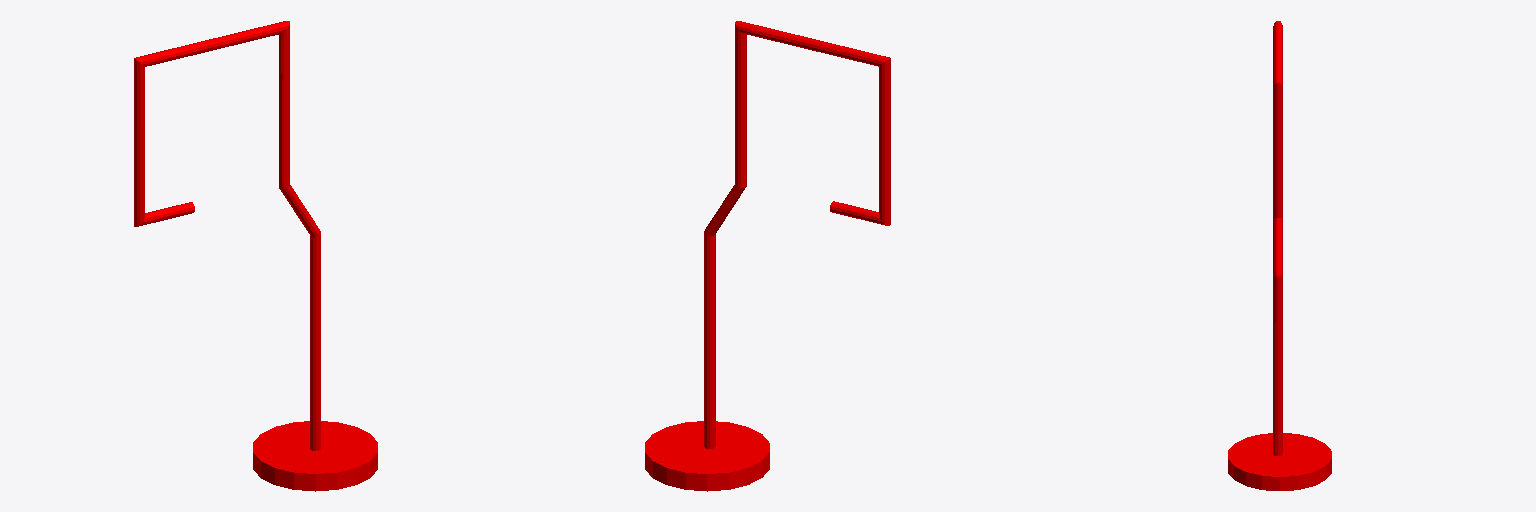
The robot description file, URDF, robot "ring":
<?xml version="0.0" ?>
<robot name="ring">
    <material name="white">
        <color rgba="1 0 0 1"/>
    </material>

    <link name="baseLink">
        <!-- from lego/lego.urdf -->
        <contact>
            <lateral_friction value="1.0"/>
            <rolling_friction value="0.0"/>
            <contact_cfm value="0.0"/>
            <contact_erp value="1.0"/>
        </contact>
        <inertial>
            <origin rpy="0 0 0" xyz="0 0 0"/>
            <mass value="0.01"/>
            <inertia ixx="1" ixy="0" ixz="0" iyy="1" iyz="0" izz="1"/>
        </inertial>
        <visual>
            <origin rpy="1.57 0 0" xyz="0 0 0"/>
            <geometry>
                <!--        radius: 10mm, depth: 14.5mm-->
                <mesh filename="meshes/a.obj" scale="1 1 1"/>
                <!--        <box size="0.002 0.002 0.002"/>-->
            </geometry>
            <material name="white"/>
        </visual>
        <collision>
            <origin rpy="1.57 0 0" xyz="0 0 0"/>
            <geometry>
                <mesh filename="meshes/a_vhacd.obj" scale="1 1 1"/>
                       <!-- <box size="2 2 2"/> -->
            </geometry>
        </collision>
    </link>
</robot>

--- What the picture shows (computed from the rendered views, not written in the file) ---
3 views of the same robot in one strip: view 1: azimuth 30°, elevation 25°; view 2: azimuth 150°, elevation 25°; view 3: azimuth 270°, elevation 25° (orthographic).
Model ring with 1 links and 0 joints (none), rooted at baseLink, posed every joint at zero.
Visible links, largest first — view 1: baseLink; view 2: baseLink; view 3: baseLink.
Link boxes in pixels (bbox=[...]): baseLink: bbox=[134, 21, 377, 491]; baseLink: bbox=[645, 21, 890, 491]; baseLink: bbox=[1228, 21, 1331, 490].
Size in the robot's own frame: 0.0678 by 0.031 by 0.1234 metres.
Meshes: 1 distinct files referenced, 1 mesh visuals loaded (1 OBJ).